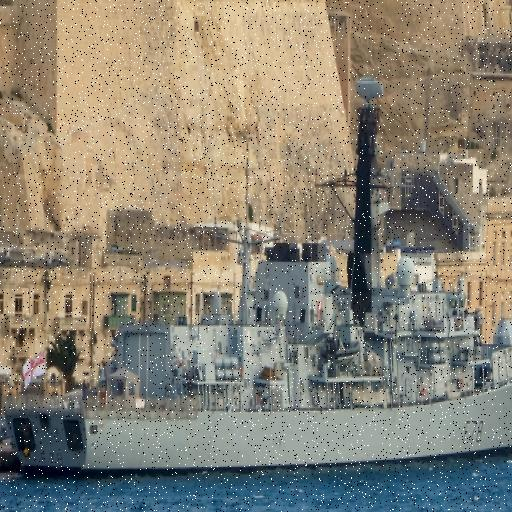Fragata: (1, 57, 512, 490)
